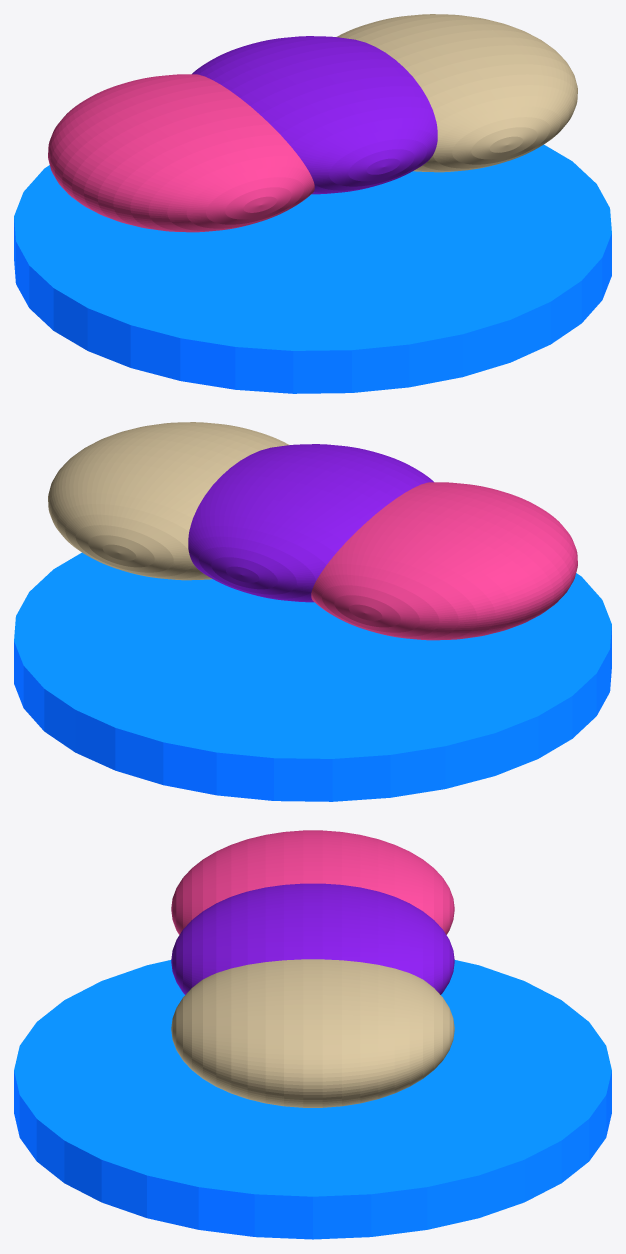
The model's file is french_macarons.dae.
3 renders of one model, top to bottom at view 1: azimuth 30°, elevation 25°; view 2: azimuth 150°, elevation 25°; view 3: azimuth 270°, elevation 25°, orthographic.
Parts seen in each view (by area): view 1: 10_08_Popular_French_Macarons_ROOT_base, 10_08_Popular_French_Macarons_part_01, 10_08_Popular_French_Macarons_part_03, 10_08_Popular_French_Macarons_part_02; view 2: 10_08_Popular_French_Macarons_ROOT_base, 10_08_Popular_French_Macarons_part_01, 10_08_Popular_French_Macarons_part_03, 10_08_Popular_French_Macarons_part_02; view 3: 10_08_Popular_French_Macarons_ROOT_base, 10_08_Popular_French_Macarons_part_02, 10_08_Popular_French_Macarons_part_03, 10_08_Popular_French_Macarons_part_01.
Boxes of the visible parts, x1,y1,x2,y2 form: 10_08_Popular_French_Macarons_ROOT_base: [14, 144, 611, 393]; 10_08_Popular_French_Macarons_part_01: [48, 74, 314, 232]; 10_08_Popular_French_Macarons_part_03: [192, 36, 437, 194]; 10_08_Popular_French_Macarons_part_02: [336, 14, 577, 172]; 10_08_Popular_French_Macarons_ROOT_base: [14, 552, 611, 801]; 10_08_Popular_French_Macarons_part_01: [311, 482, 577, 640]; 10_08_Popular_French_Macarons_part_03: [188, 444, 433, 602]; 10_08_Popular_French_Macarons_part_02: [48, 422, 289, 580]; 10_08_Popular_French_Macarons_ROOT_base: [14, 960, 611, 1239]; 10_08_Popular_French_Macarons_part_02: [171, 959, 454, 1107]; 10_08_Popular_French_Macarons_part_03: [171, 883, 454, 994]; 10_08_Popular_French_Macarons_part_01: [171, 830, 454, 934].
Size of the model in its own units: 0.76 by 0.2851 by 0.76.
